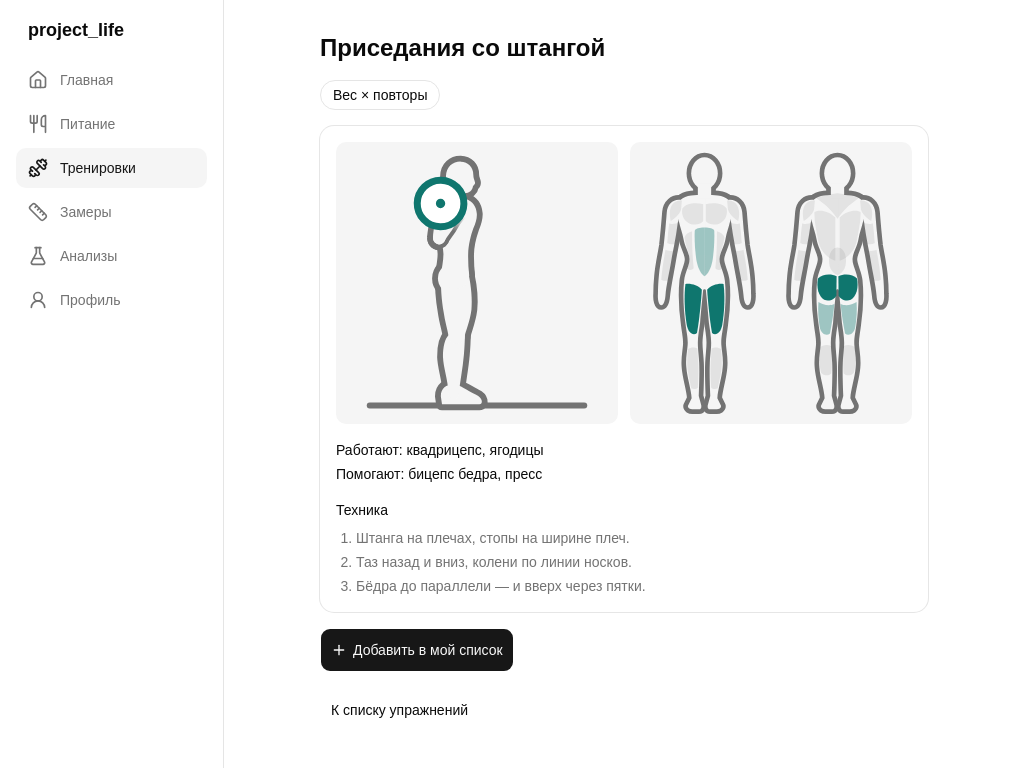
Test: карточка штатного упражнения › которого нет в списке, добавляется кнопкой
Click the button "Добавить в мой список".
click(417, 650)  # box top-left (320, 628), bottom-right (514, 672)
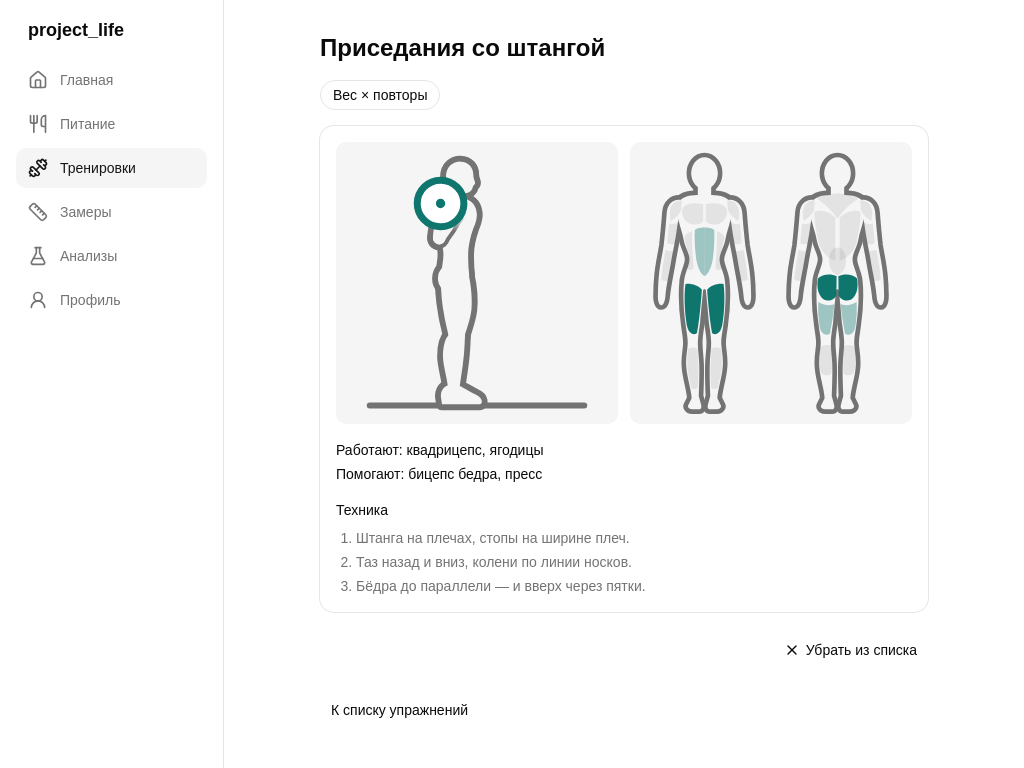
Expected: the button "Убрать из списка" is shown, top-left (773, 628), bottom-right (928, 672)
